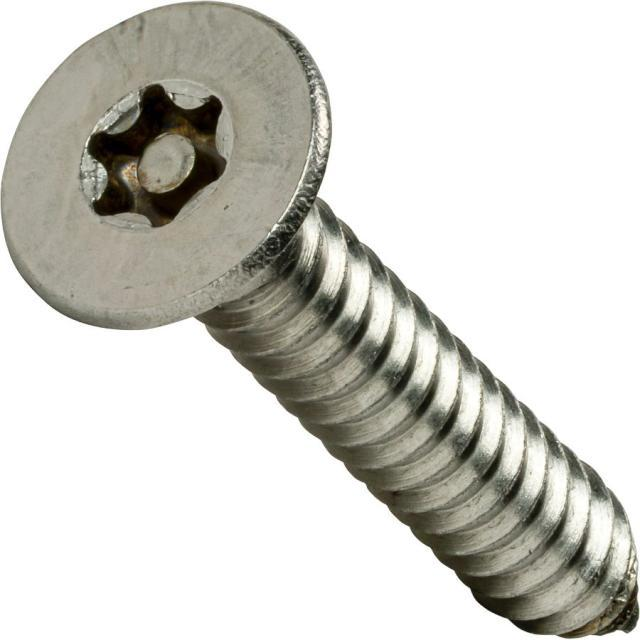torx: (3, 1, 333, 331)
